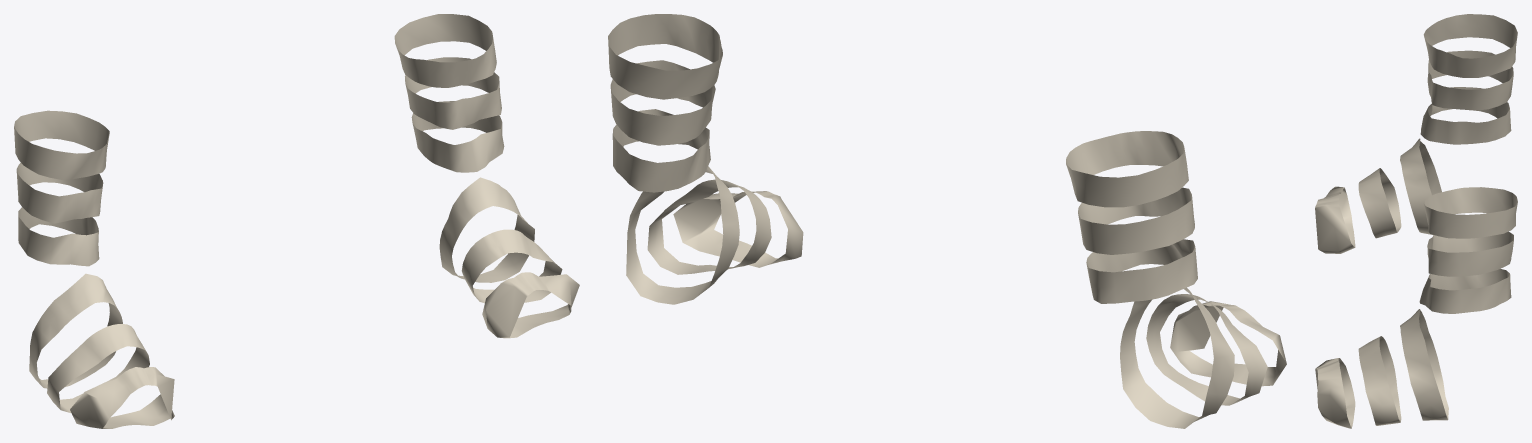
File: foot_wraps.glb
3 views of the same model, side by side, from view 1: azimuth 30°, elevation 25°; view 2: azimuth 150°, elevation 25°; view 3: azimuth 270°, elevation 25° (orthographic). The views are drawn at different scales.
Parts seen in each view (by area): view 1: foot_wraps; view 2: foot_wraps; view 3: foot_wraps.
Boxes of the visible parts, x1,y1,x2,y2 form: foot_wraps: (14, 14, 579, 428); foot_wraps: (608, 14, 1286, 428); foot_wraps: (1315, 14, 1517, 428).
Bounding box in the file's own units: 0.5259 × 0.2385 × 0.2042.
